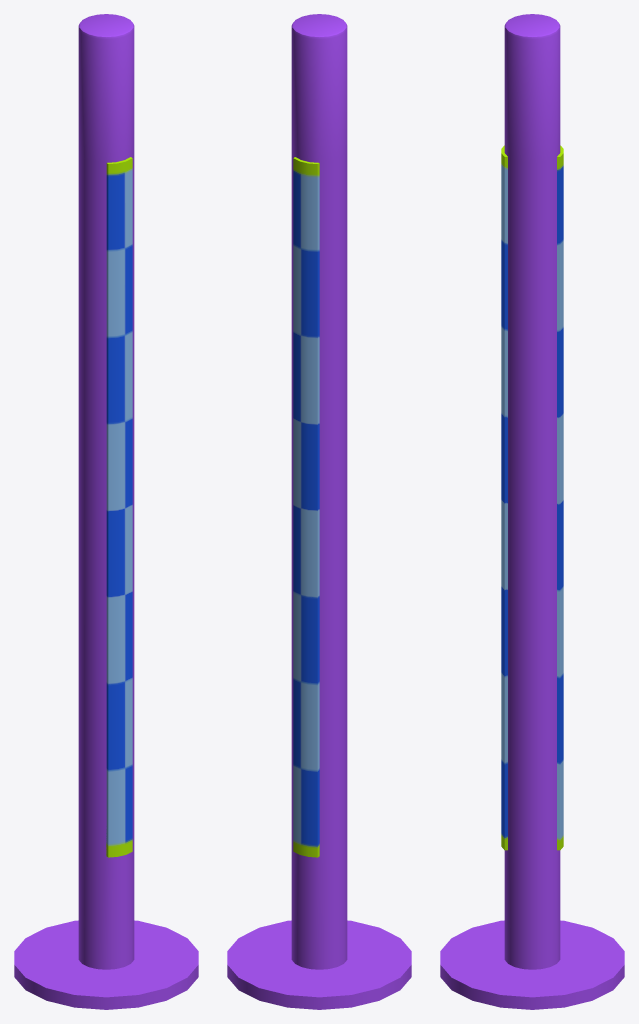
The model's file is LightFloor05_1.FBX.
3 views of the same model, side by side, from view 1: azimuth 30°, elevation 25°; view 2: azimuth 150°, elevation 25°; view 3: azimuth 270°, elevation 25° (orthographic).
Visible parts, largest first — view 1: LightFloor05_1; view 2: LightFloor05_1; view 3: LightFloor05_1.
Boxes of the visible parts, <box> form: LightFloor05_1: <box>14,14,198,1009</box>; LightFloor05_1: <box>227,14,411,1009</box>; LightFloor05_1: <box>440,14,624,1009</box>.
Size of the model in its own units: 26.87 by 150 by 26.46.
